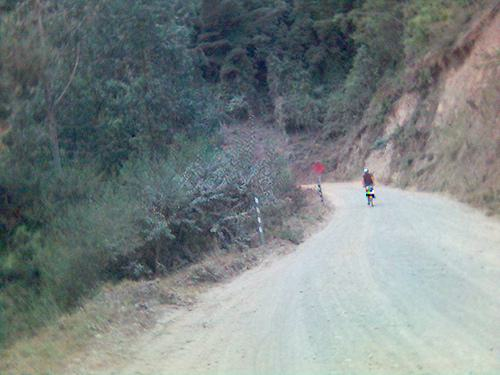car: (363, 184, 377, 205)
person: (362, 168, 380, 206)
